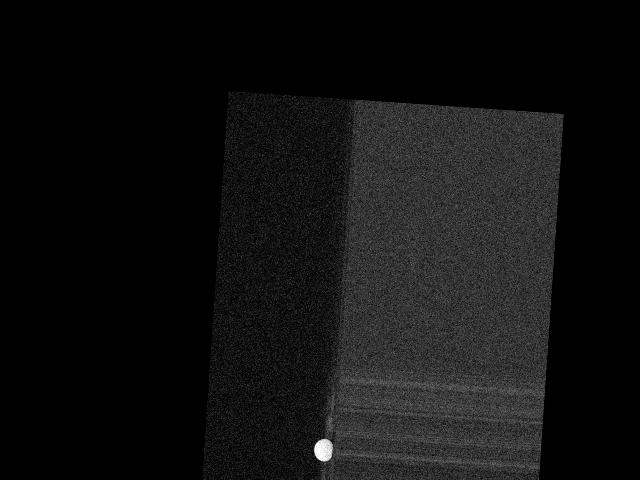egg: (313, 437, 333, 461)
